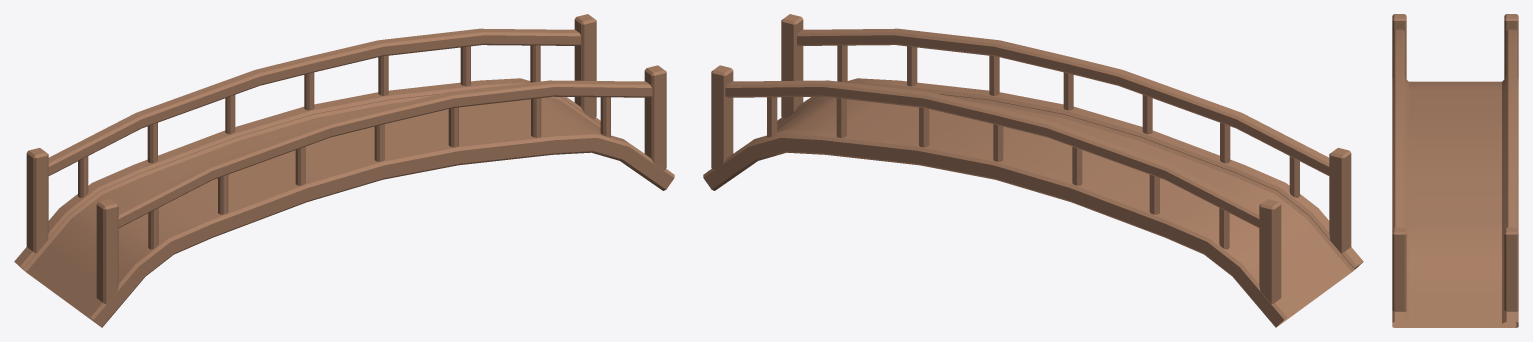
Rendered from Bridge.fbx.
3 views of the same model, side by side, from view 1: azimuth 30°, elevation 25°; view 2: azimuth 150°, elevation 25°; view 3: azimuth 270°, elevation 25° (orthographic). The views are drawn at different scales.
Parts seen in each view (by area): view 1: Bridge; view 2: Bridge; view 3: Bridge.
Boxes of the visible parts, x1=… form: Bridge: x1=14, y1=14, x2=674, y2=327; Bridge: x1=703, y1=14, x2=1363, y2=327; Bridge: x1=1392, y1=14, x2=1518, y2=327.
Bounding box in the file's own units: 1300 × 313 × 305.
